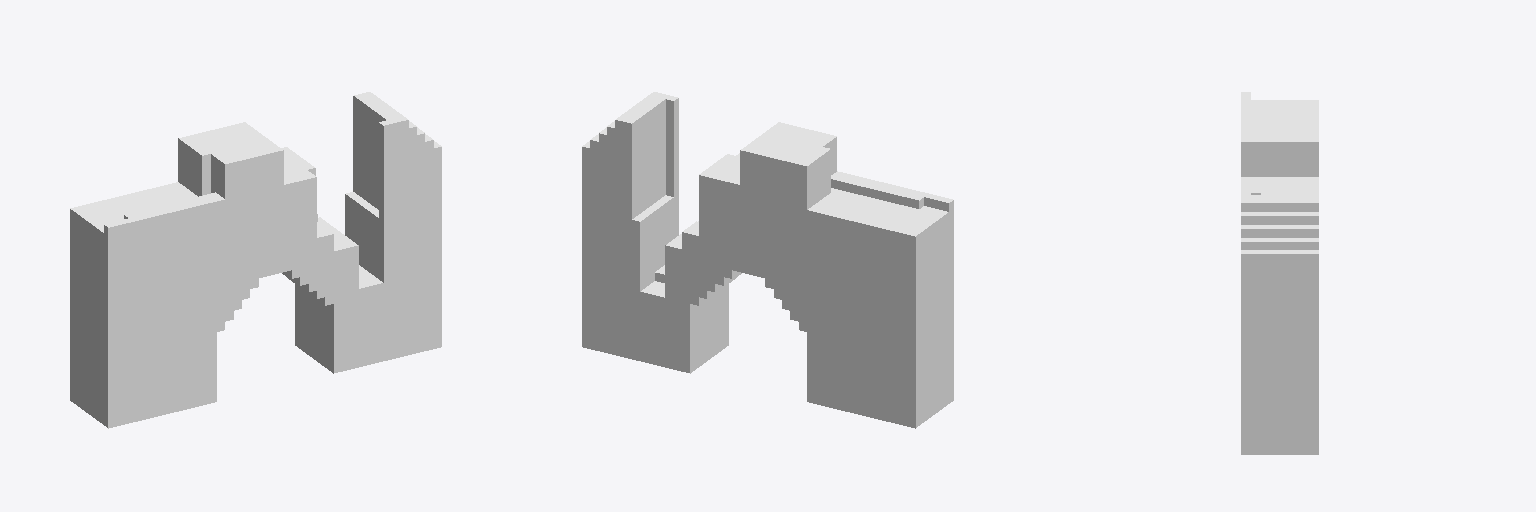
The model's file is defence.vox-3-2.obj.
The picture shows the model from 3 angles: view 1: azimuth 30°, elevation 25°; view 2: azimuth 150°, elevation 25°; view 3: azimuth 270°, elevation 25°; orthographic projection.
Visible parts, largest first — view 1: 2; view 2: 2; view 3: 2.
Boxes of the visible parts, x1,y1,x2,y2 form: 2: [70, 92, 441, 428]; 2: [582, 92, 953, 428]; 2: [1241, 92, 1318, 454].
Size of the model in its own units: 4 by 2.7 by 0.8.